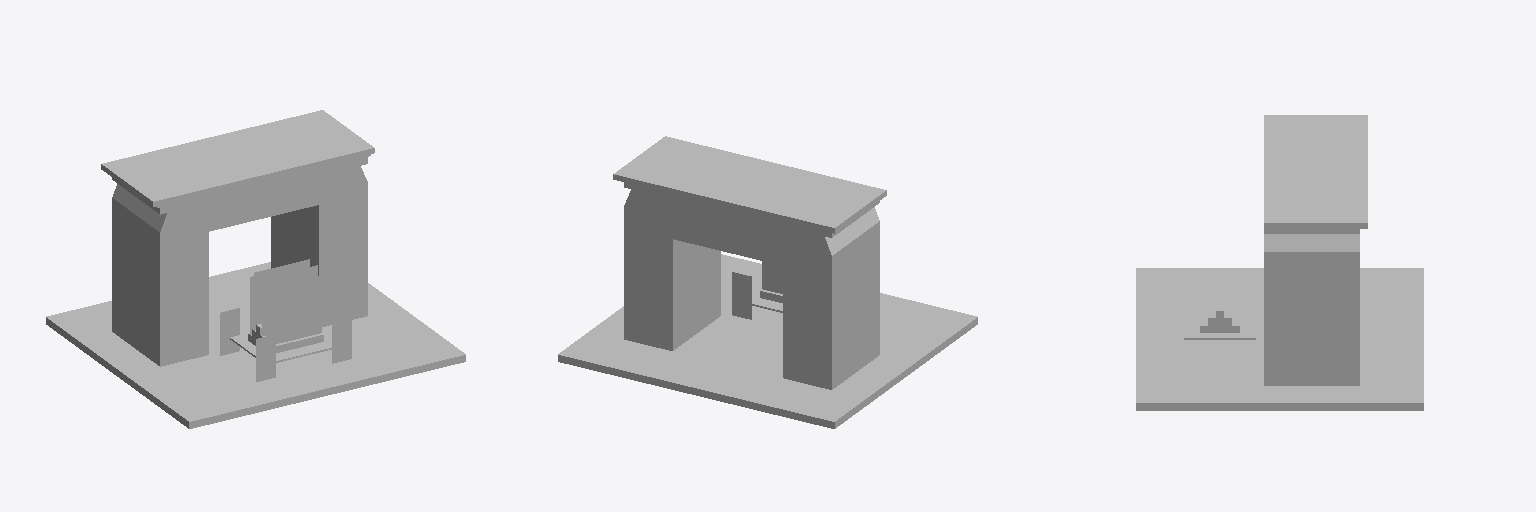
Rendered from fireplace.obj.
3 renders of one model, left to right at view 1: azimuth 30°, elevation 25°; view 2: azimuth 150°, elevation 25°; view 3: azimuth 270°, elevation 25°, orthographic.
Visible parts, largest first — view 1: cube.002, cube.027, cube.026, cube.007, cube.006, cube.005, cube.000, cube.016, cube.004, cube.003, cube, cube.036 (+9 smaller); view 2: cube.007, cube.002, cube.027, cube.026, cube.006, cube.034, cube.028, cube.029, cube.005, cube, cube.030, cube.031 (+5 smaller); view 3: cube.026, cube.002, cube.007, cube.005, cube.006, cube.003, cube.004, cube.035, cube.008.
Part boxes in pixels (x1,y1,x2,y2): cube.002: (101,110,374,206); cube.027: (112,198,208,366); cube.026: (271,182,367,326); cube.007: (46,262,401,382); cube.006: (126,353,278,428); cube.005: (322,308,465,383); cube.000: (209,176,318,231); cube.016: (266,275,321,343); cube.004: (260,362,375,406); cube.003: (216,347,355,385); cube: (112,157,367,214); cube.036: (112,184,181,234); cube.007: (558,306,913,428); cube.002: (613,136,886,233); cube.027: (783,221,879,389); cube.026: (624,206,720,350); cube.006: (880,295,977,370); cube.034: (673,200,782,261); cube.028: (633,190,672,251); cube.029: (783,226,822,287); cube.005: (721,254,761,317); cube: (624,182,879,237); cube.030: (624,278,646,328); cube.031: (809,323,831,373); cube.026: (1264,252,1359,385); cube.002: (1264,115,1367,228); cube.007: (1264,268,1423,410); cube.005: (1136,359,1263,410); cube.006: (1136,268,1263,311); cube.003: (1176,312,1263,358); cube.004: (1136,312,1175,358); cube.035: (1264,234,1359,251); cube.008: (1184,301,1255,339).
Bounding box in the file's own units: 2.5 × 1.5 × 2.25.